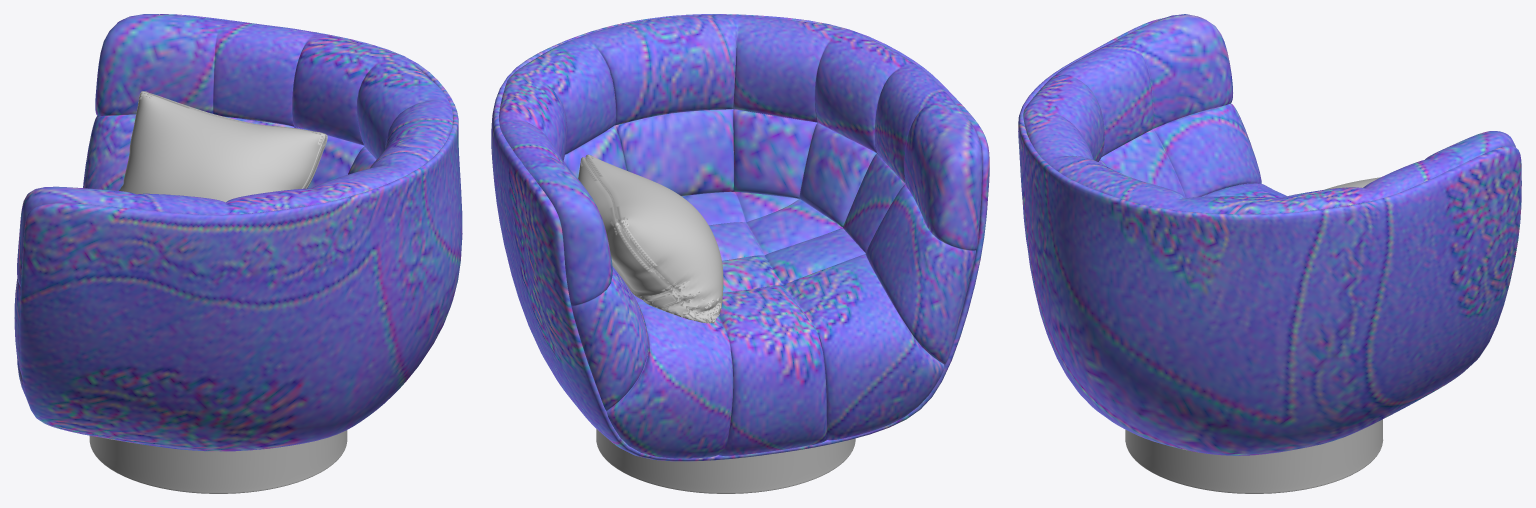
The model's file is chair1.gltf.
3 views of the same model, side by side, from view 1: azimuth 30°, elevation 25°; view 2: azimuth 150°, elevation 25°; view 3: azimuth 270°, elevation 25° (orthographic).
Parts seen in each view (by area): view 1: Furnoture, Pillow, Furniture_Base; view 2: Furnoture, Pillow, Furniture_Base; view 3: Furnoture, Furniture_Base.
Boxes of the visible parts, x1,y1,x2,y2 form: Furnoture: (14,14,462,451); Pillow: (119,91,327,202); Furniture_Base: (89,430,347,493); Furnoture: (491,14,989,461); Pillow: (578,154,723,323); Furniture_Base: (596,429,855,493); Furnoture: (1018,14,1521,455); Furniture_Base: (1125,419,1383,493).
Size of the model in its own units: 1.32 by 0.957 by 1.33.
